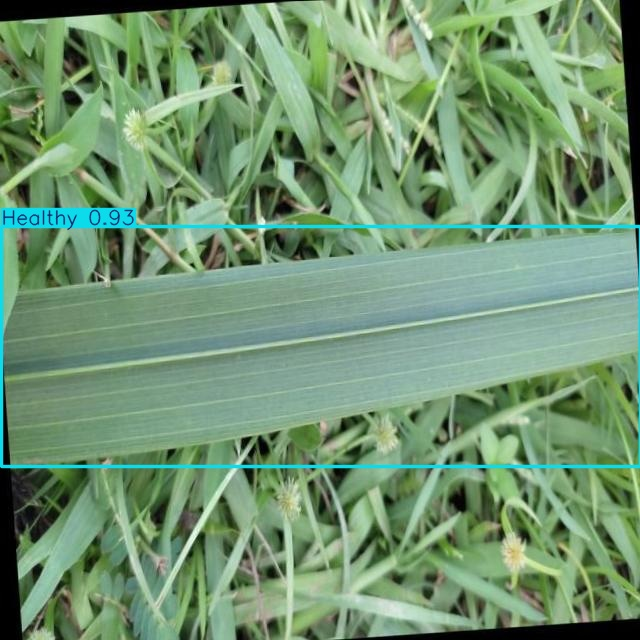Healthy: (2, 226, 640, 466)
